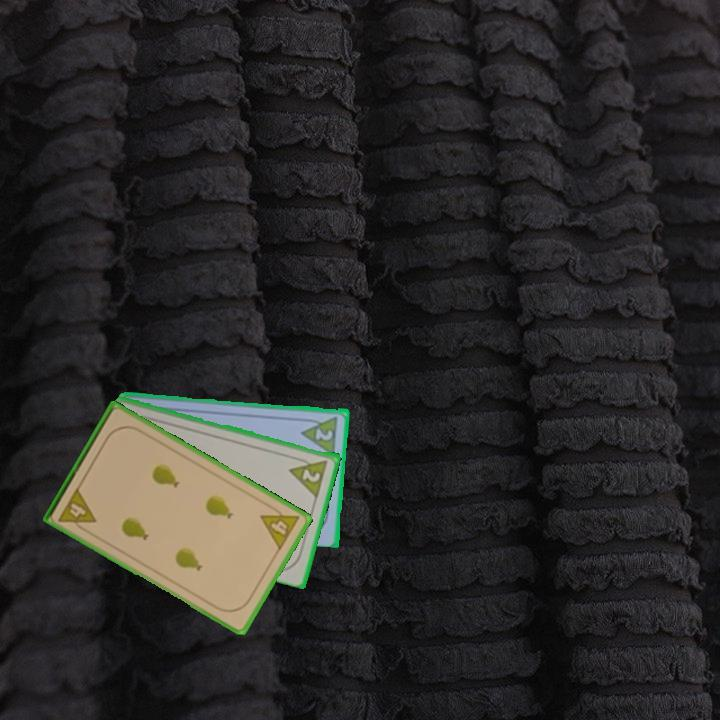2p: (286, 452, 331, 499), (299, 412, 341, 456)
4p: (257, 500, 302, 553), (55, 484, 99, 536)
